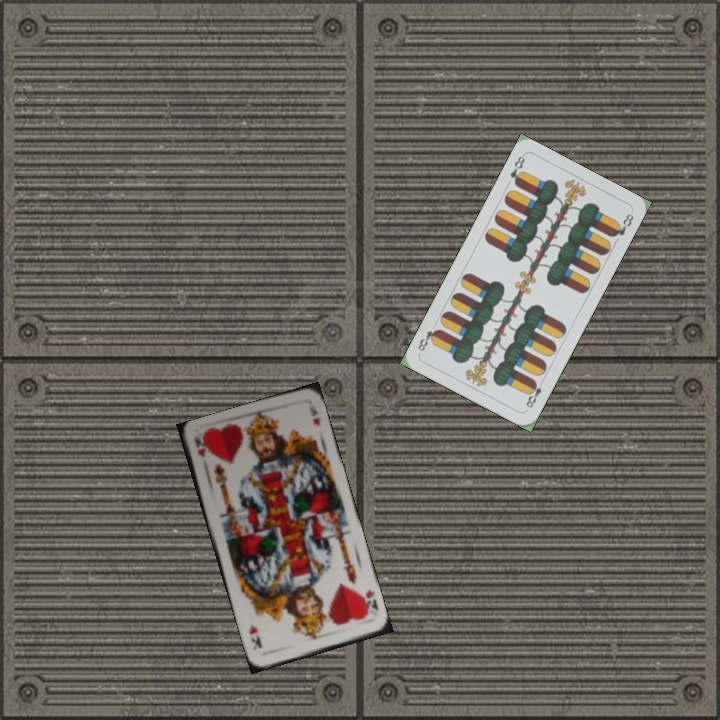E8: (522, 375, 547, 411), (506, 152, 528, 188)
HK: (356, 585, 381, 618), (190, 433, 208, 460)
